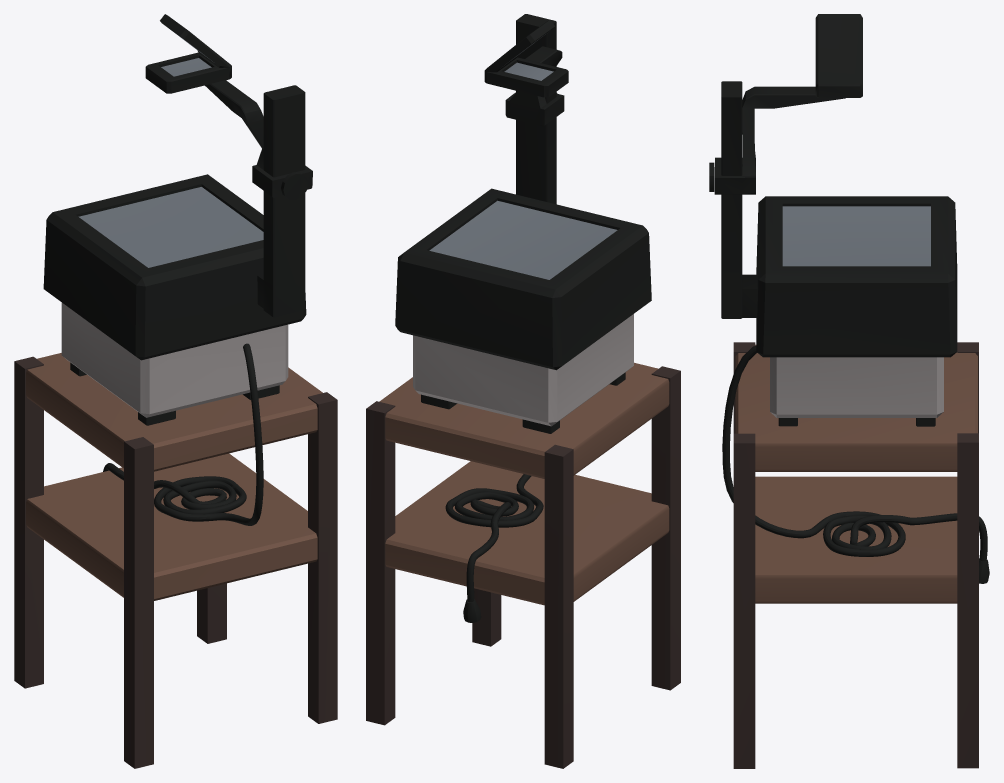
File: Projektor.fbx
3 views of the same model, side by side, from view 1: azimuth 30°, elevation 25°; view 2: azimuth 150°, elevation 25°; view 3: azimuth 270°, elevation 25° (orthographic). The views are drawn at different scales.
Visible parts, largest first — view 1: Kabel; view 2: Kabel; view 3: Kabel.
Part boxes in pixels (left/top/right/bottom): Kabel: left=14, top=14, right=337, bottom=768; Kabel: left=366, top=14, right=680, bottom=768; Kabel: left=709, top=14, right=989, bottom=768.
Size of the model in its own units: 41.73 by 135 by 49.05.
